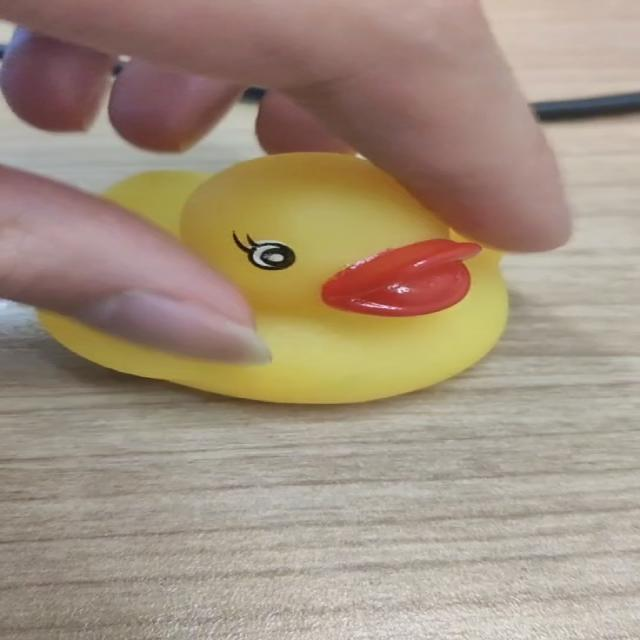rubber-duck: (39, 152, 506, 401)
